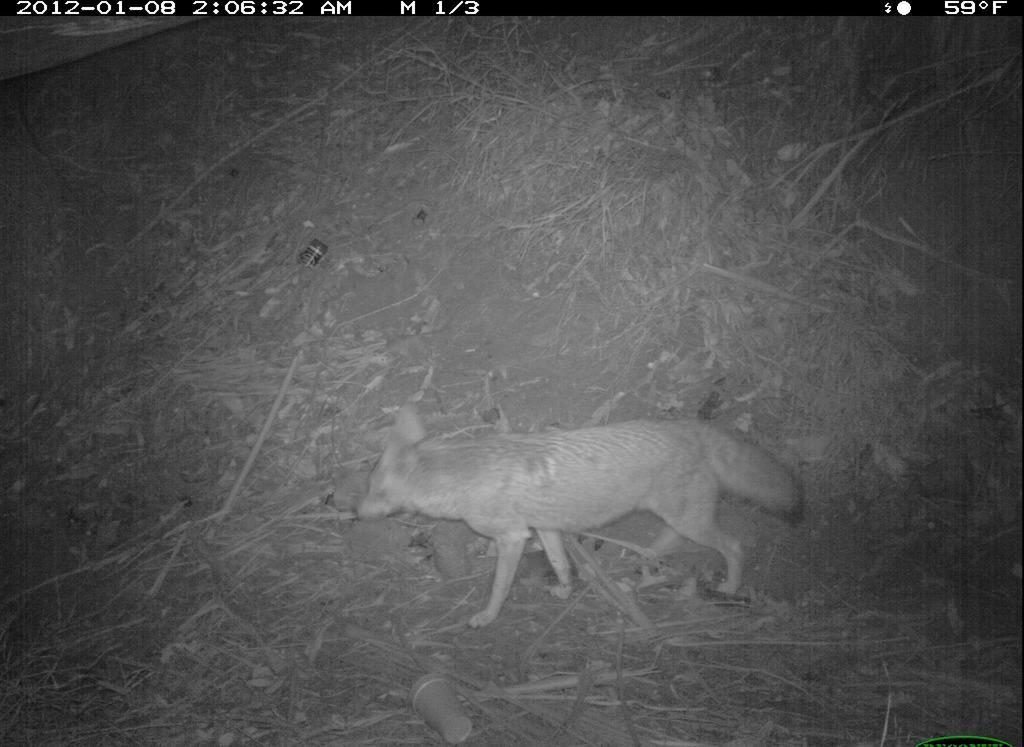coyote: (350, 400, 811, 630)
